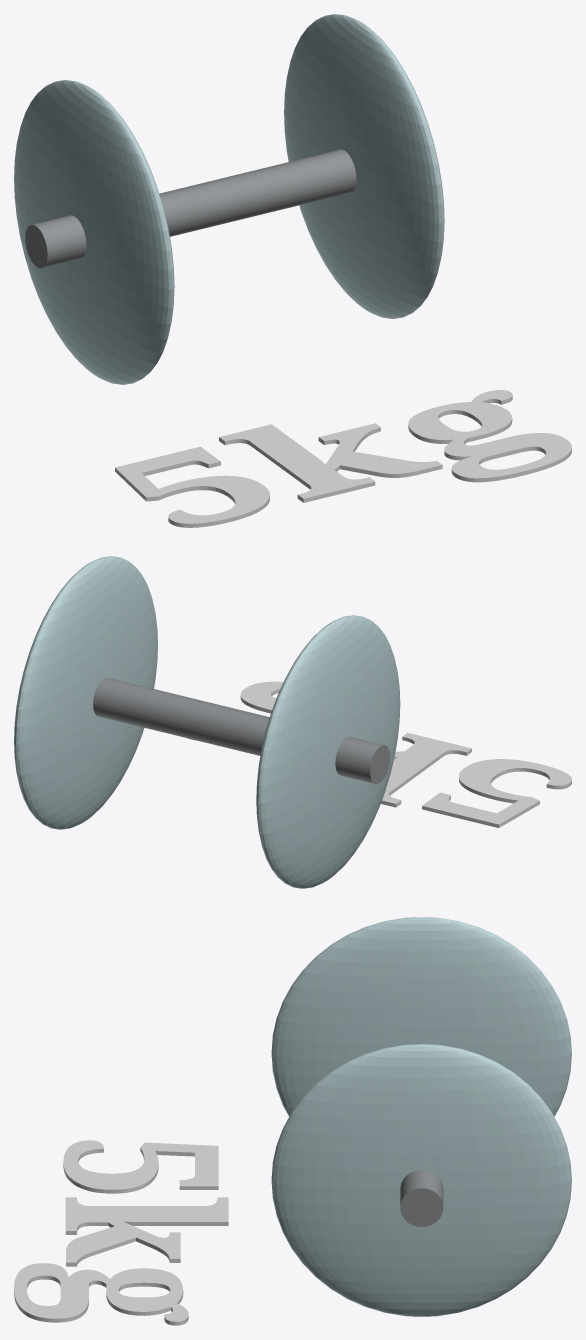
The model's file is tinker.glb.
3 renders of one model, top to bottom at view 1: azimuth 30°, elevation 25°; view 2: azimuth 150°, elevation 25°; view 3: azimuth 270°, elevation 25°, orthographic. The views are drawn at different scales.
Parts seen in each view (by area): view 1: Mesh_Mesh_head_geo.001_lambert2SG.001; view 2: Mesh_Mesh_head_geo.001_lambert2SG.001; view 3: Mesh_Mesh_head_geo.001_lambert2SG.001.
Part boxes in pixels (x1,y1,x2,y2): Mesh_Mesh_head_geo.001_lambert2SG.001: [14, 14, 571, 527]; Mesh_Mesh_head_geo.001_lambert2SG.001: [14, 556, 571, 888]; Mesh_Mesh_head_geo.001_lambert2SG.001: [14, 917, 571, 1325].
Bounding box in the file's own units: 11 × 7 × 13.
